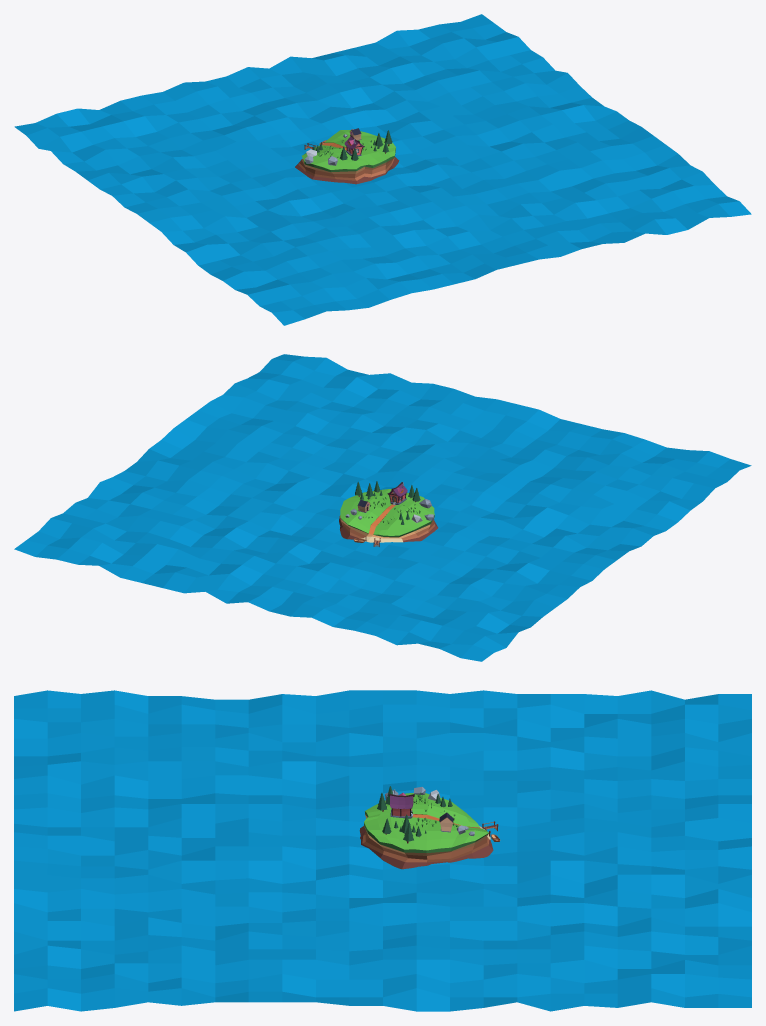
Rendered from IslLowPoly.fbx.
The picture shows the model from 3 angles, top to bottom: view 1: azimuth 30°, elevation 25°; view 2: azimuth 150°, elevation 25°; view 3: azimuth 270°, elevation 25°; orthographic projection. The views are drawn at different scales.
Visible parts, largest first — view 1: Water, Cube.019; view 2: Water, Cube.019; view 3: Water, Cube.019.
Part boxes in pixels (left/top/right/bottom): Water: left=14, top=14, right=751, bottom=325; Cube.019: left=295, top=130, right=399, bottom=184; Water: left=14, top=354, right=751, bottom=661; Cube.019: left=339, top=489, right=438, bottom=542; Water: left=14, top=690, right=751, bottom=1011; Cube.019: left=359, top=793, right=493, bottom=869.
Bounding box in the file's own units: 12451 × 1599 × 12451.
